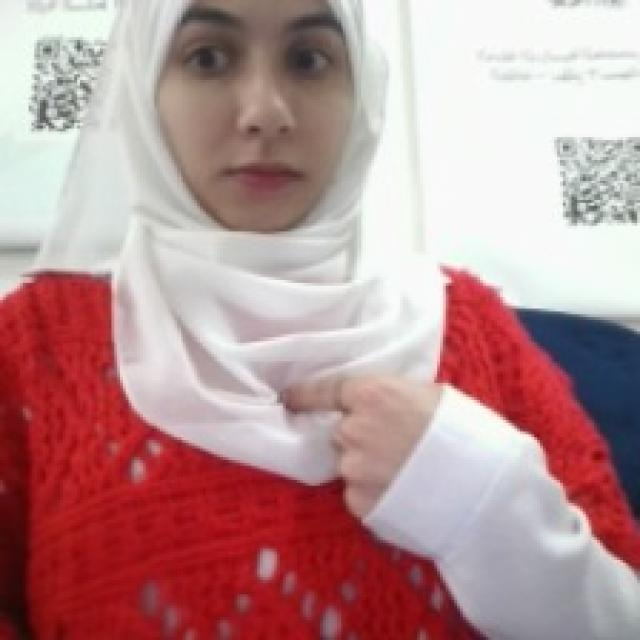me: (272, 363, 453, 524)
